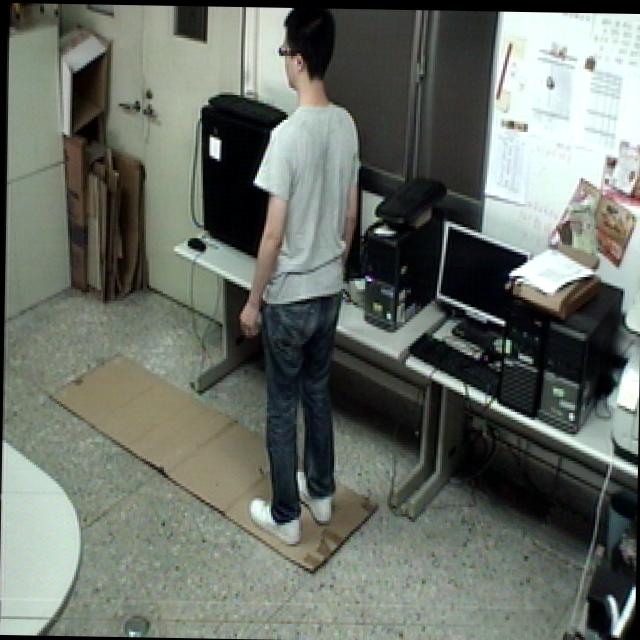stand: (236, 7, 369, 553)
